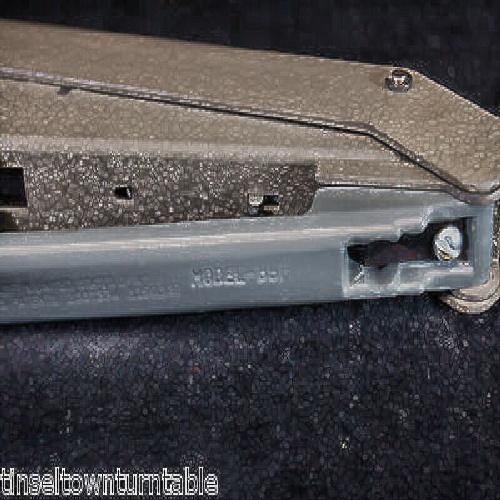stapler: (22, 22, 488, 321)
